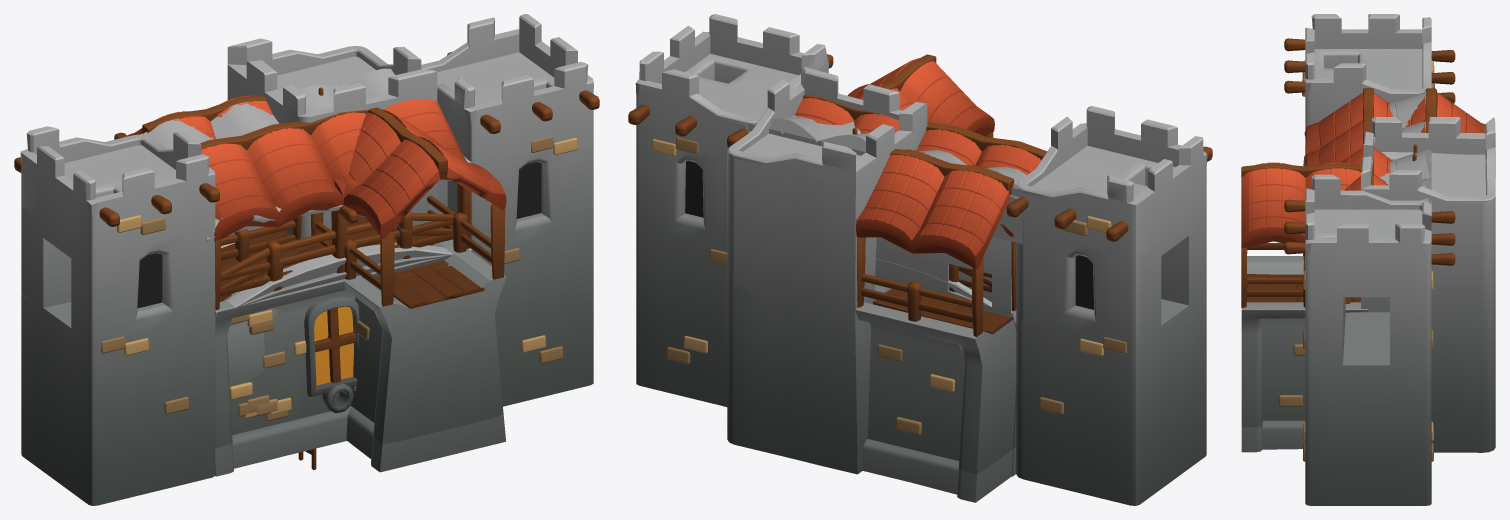
File: castle_walls.fbx
3 renders of one model, left to right at view 1: azimuth 30°, elevation 25°; view 2: azimuth 150°, elevation 25°; view 3: azimuth 270°, elevation 25°, orthographic. The views are drawn at different scales.
Visible parts, largest first — view 1: big_door_wall, corner_wall, door_wall, window_wall, basic_wall, casstle_wall_peaces:castle_walls:roof2, Cannon; view 2: big_door_wall, corner_wall, window_wall, casstle_wall_peaces:castle_walls:roof2, door_wall, casstle_wall_peaces:castle_walls:roof1, basic_wall; view 3: big_door_wall, corner_wall, door_wall, casstle_wall_peaces:castle_walls:roof2, window_wall, basic_wall.
Boxes of the visible parts, x1,y1,x2,y2 form: big_door_wall: (14,14,599,505); corner_wall: (127,38,506,472); door_wall: (206,99,469,475); window_wall: (206,99,469,449); basic_wall: (205,99,469,464); casstle_wall_peaces:castle_walls:roof2: (142,68,471,234); Cannon: (322,383,353,413); big_door_wall: (628,14,1212,505); corner_wall: (727,54,1016,502); window_wall: (805,97,1022,317); casstle_wall_peaces:castle_walls:roof2: (748,116,1026,199); door_wall: (804,97,1039,313); casstle_wall_peaces:castle_walls:roof1: (748,123,1022,243); basic_wall: (803,97,1041,310); big_door_wall: (1284,14,1455,505); corner_wall: (1241,88,1495,452); door_wall: (1305,96,1392,190); casstle_wall_peaces:castle_walls:roof2: (1389,91,1432,212); window_wall: (1306,101,1392,190); basic_wall: (1305,96,1391,190).
Size of the model in its own units: 8 by 5.56 by 4.02.
